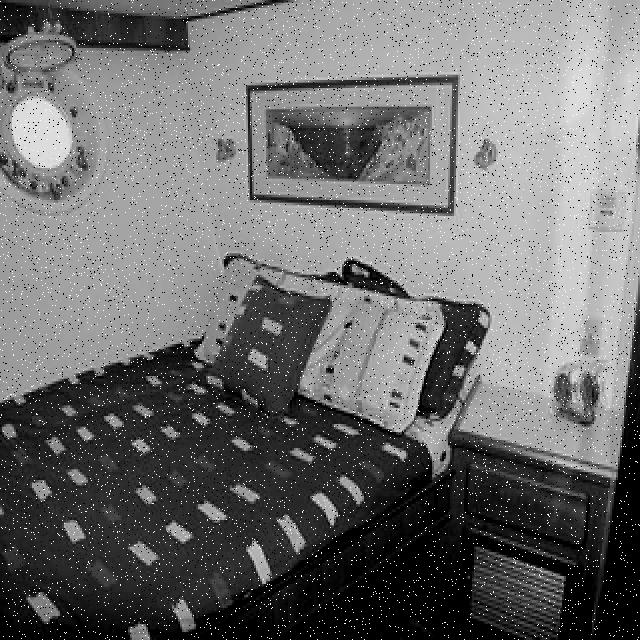bed: (0, 260, 478, 640)
